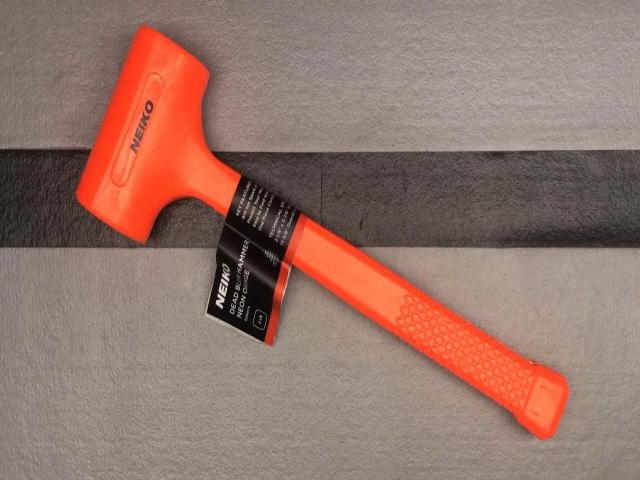hammer: (76, 26, 572, 440)
